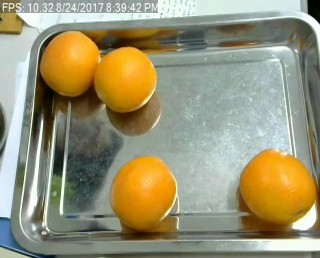Orange: (238, 147, 316, 224), (109, 154, 177, 228), (94, 46, 156, 113), (39, 29, 100, 97)
